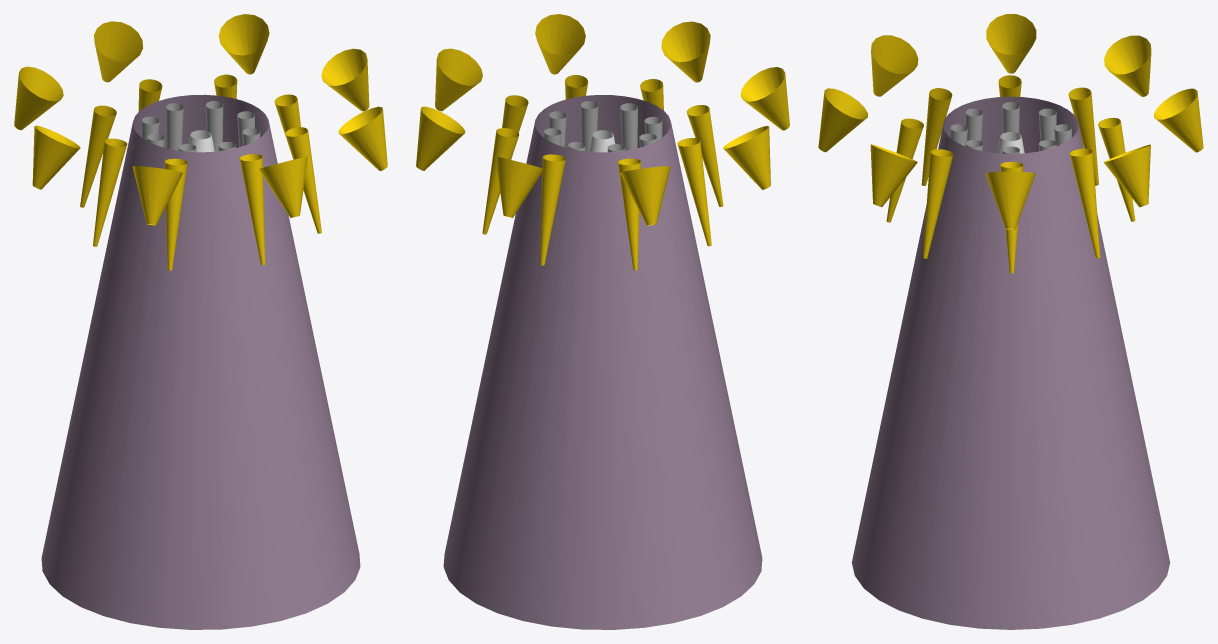
File: lights.obj
The picture shows the model from 3 angles, left to right: view 1: azimuth 30°, elevation 25°; view 2: azimuth 150°, elevation 25°; view 3: azimuth 270°, elevation 25°; orthographic projection.
Parts seen in each view (by area): view 1: Light_Light_0; view 2: Light_Light_0; view 3: Light_Light_0.
Part boxes in pixels (x1,y1,x2,y2): Light_Light_0: [14, 14, 387, 629]; Light_Light_0: [416, 14, 789, 629]; Light_Light_0: [818, 14, 1203, 629].
Size of the model in its own units: 63.38 by 85.33 by 63.38.
1 material, 1 textured.
